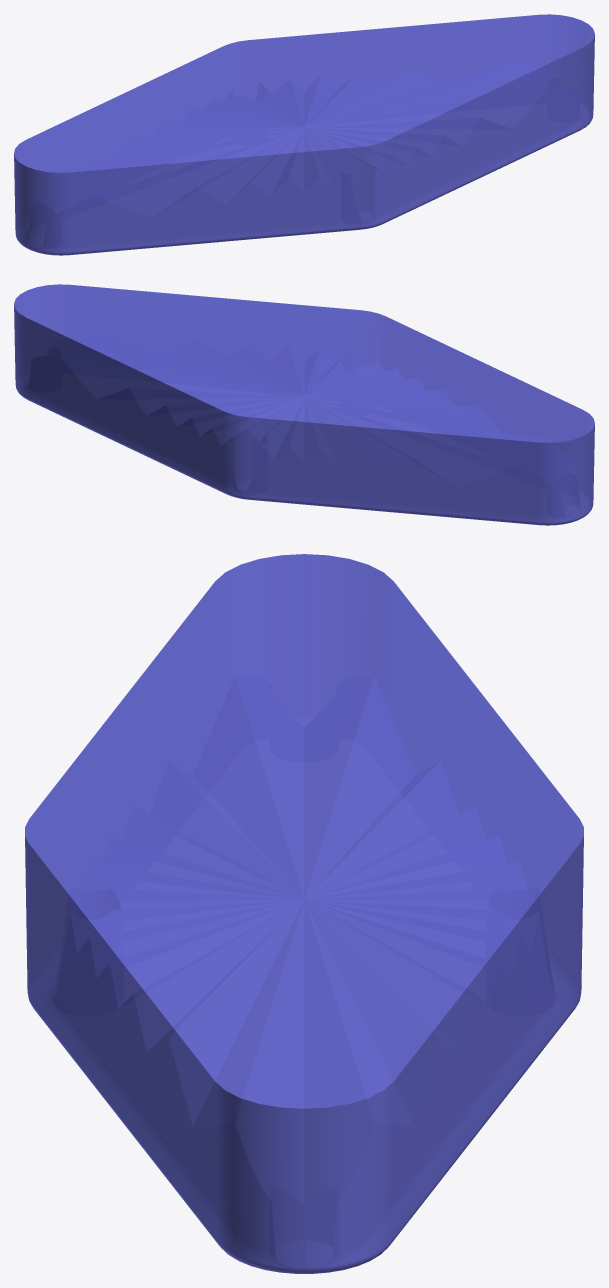
File: Insert 1.75' Diamond, Starbust (PL-134DBT).fbx
3 views of the same model, one above another, from view 1: azimuth 30°, elevation 25°; view 2: azimuth 150°, elevation 25°; view 3: azimuth 270°, elevation 25° (orthographic). The views are drawn at different scales.
Visible parts, largest first — view 1: Insert 1.75' Diamond, Starbust (PL-134DBT); view 2: Insert 1.75' Diamond, Starbust (PL-134DBT); view 3: Insert 1.75' Diamond, Starbust (PL-134DBT).
Part boxes in pixels (box(x1,y1,x2,y2)): Insert 1.75' Diamond, Starbust (PL-134DBT): box(14, 14, 594, 255); Insert 1.75' Diamond, Starbust (PL-134DBT): box(14, 284, 594, 525); Insert 1.75' Diamond, Starbust (PL-134DBT): box(25, 554, 583, 1273).
Size of the model in its own units: 4.44 by 0.635 by 1.89.
